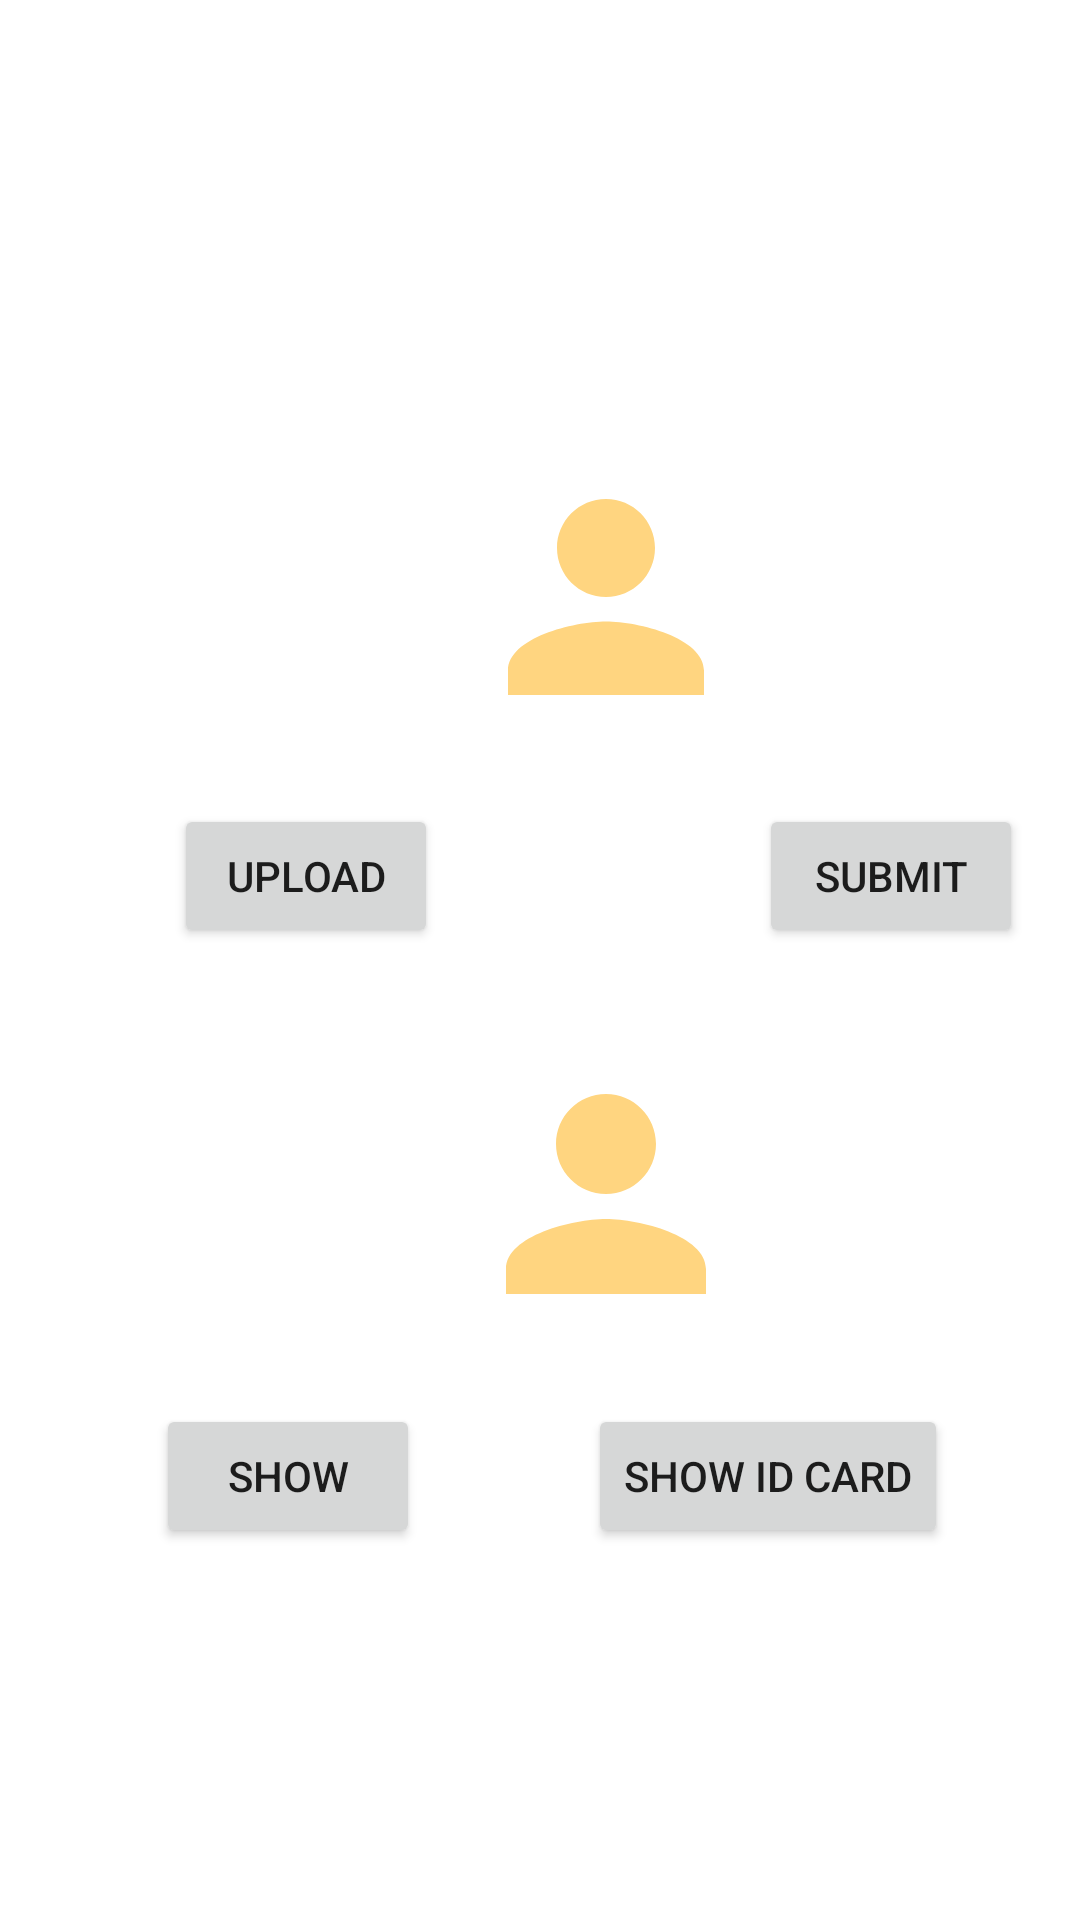

Icons on this 1080 × 1920 Android screen, each with its box as [x1=x1, y1=y1, x2=x2, y2=y2]:
person: [x1=508, y1=499, x2=704, y2=695], [x1=506, y1=1094, x2=706, y2=1294]
